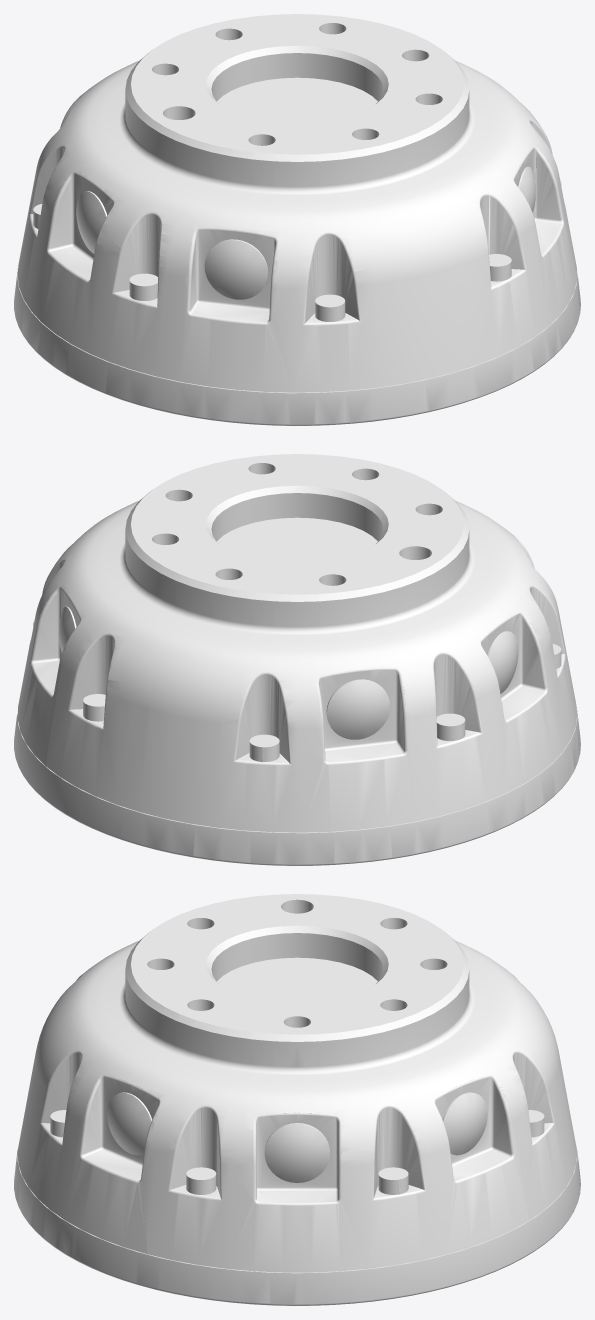
File: v_kuka_link_7.dae
The picture shows the model from 3 angles, top to bottom: view 1: azimuth 30°, elevation 25°; view 2: azimuth 150°, elevation 25°; view 3: azimuth 270°, elevation 25°; orthographic projection.
Visible parts, largest first — view 1: link_7; view 2: link_7; view 3: link_7.
Boxes of the visible parts, bbox=[...] form: link_7: bbox=[14, 14, 580, 425]; link_7: bbox=[14, 454, 580, 865]; link_7: bbox=[14, 894, 580, 1305].
Size of the model in its own units: 0.1039 by 0.1039 by 0.0549.
1 material, 1 textured.
